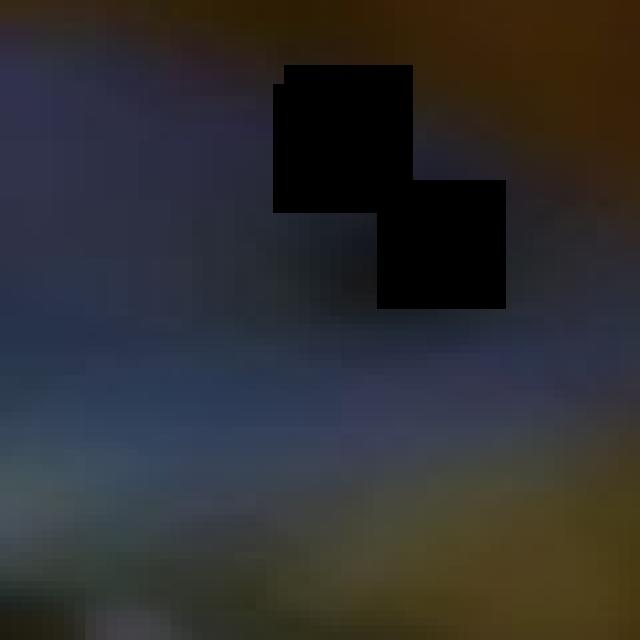fish: (10, 7, 640, 639)
